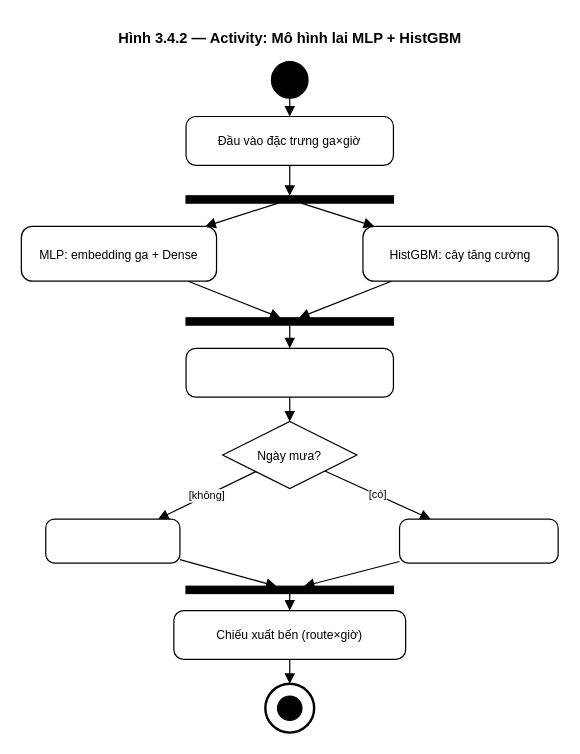
Image size: 580x754. Some labels were removed from this diagram. Here are the shapes that lost their labels. From the top down, the box of each, then its label:
(185, 347, 393, 397): Trộn blend (w_mlp = 0.8)
(45, 518, 180, 563): Dùng blend điểm
(398, 518, 558, 563): Dùng quantile GBM q75
